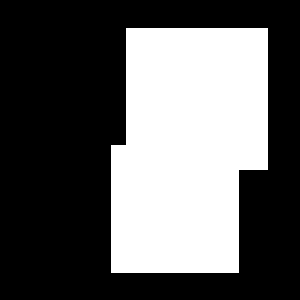circle: (126, 28, 268, 170), (111, 145, 239, 273)
triangle: (175, 66, 264, 155)
